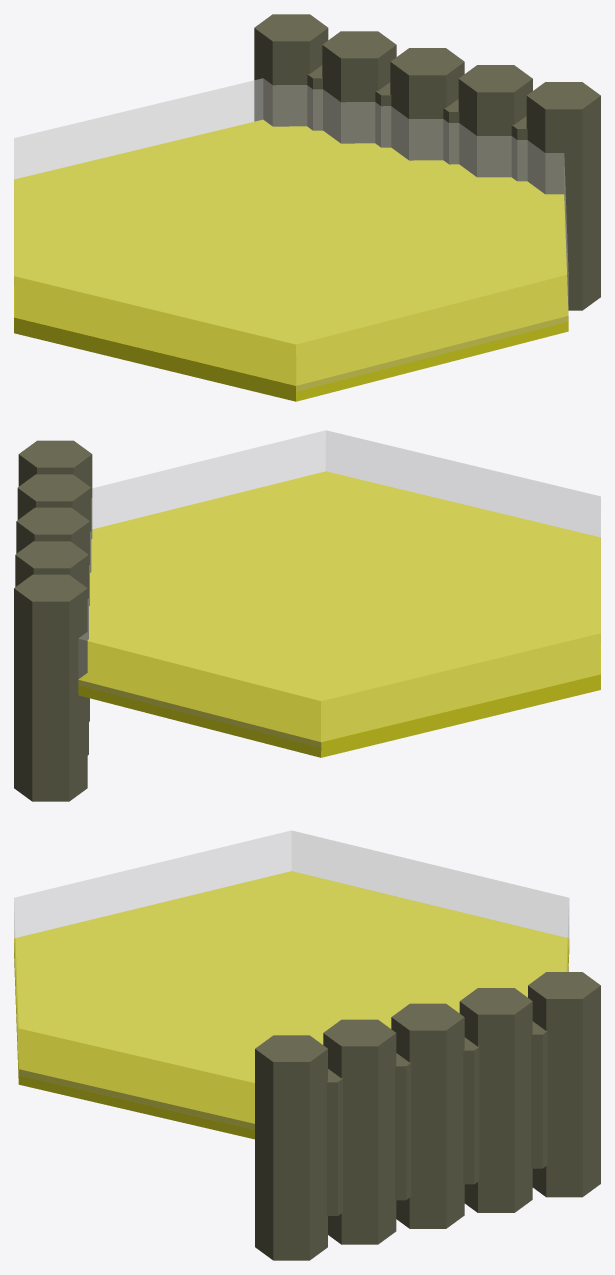
File: Tatles1.fbx_Titel_Voda_1.fbx
The picture shows the model from 3 angles, top to bottom: view 1: azimuth 30°, elevation 25°; view 2: azimuth 150°, elevation 25°; view 3: azimuth 270°, elevation 25°; orthographic projection.
Parts seen in each view (by area): view 1: Voda.001, Dno.001, Stena_1; view 2: Voda.001, Dno.001, Stena_1; view 3: Voda.001, Dno.001, Stena_1.
Part boxes in pixels (<box>): Voda.001: <box>14,78,568,391</box>; Dno.001: <box>14,119,568,401</box>; Stena_1: <box>254,14,600,310</box>; Voda.001: <box>78,430,600,747</box>; Dno.001: <box>78,471,600,757</box>; Stena_1: <box>14,440,92,801</box>; Voda.001: <box>14,830,569,1129</box>; Dno.001: <box>14,871,569,1139</box>; Stena_1: <box>255,972,600,1260</box>.
Size of the model in its own units: 19.13 by 6.41 by 17.11.
